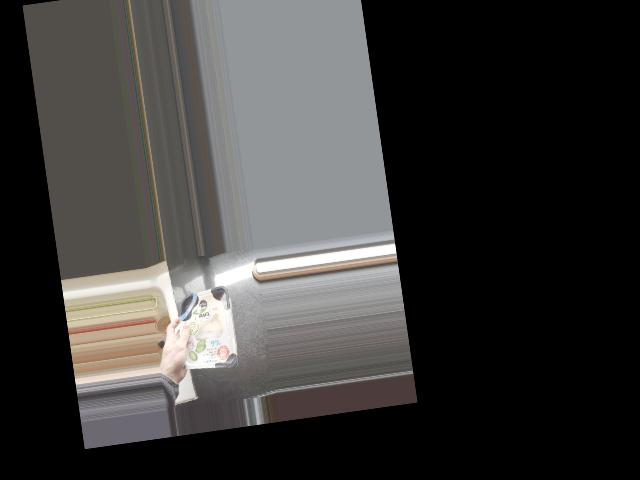cheese: (168, 286, 238, 373)
